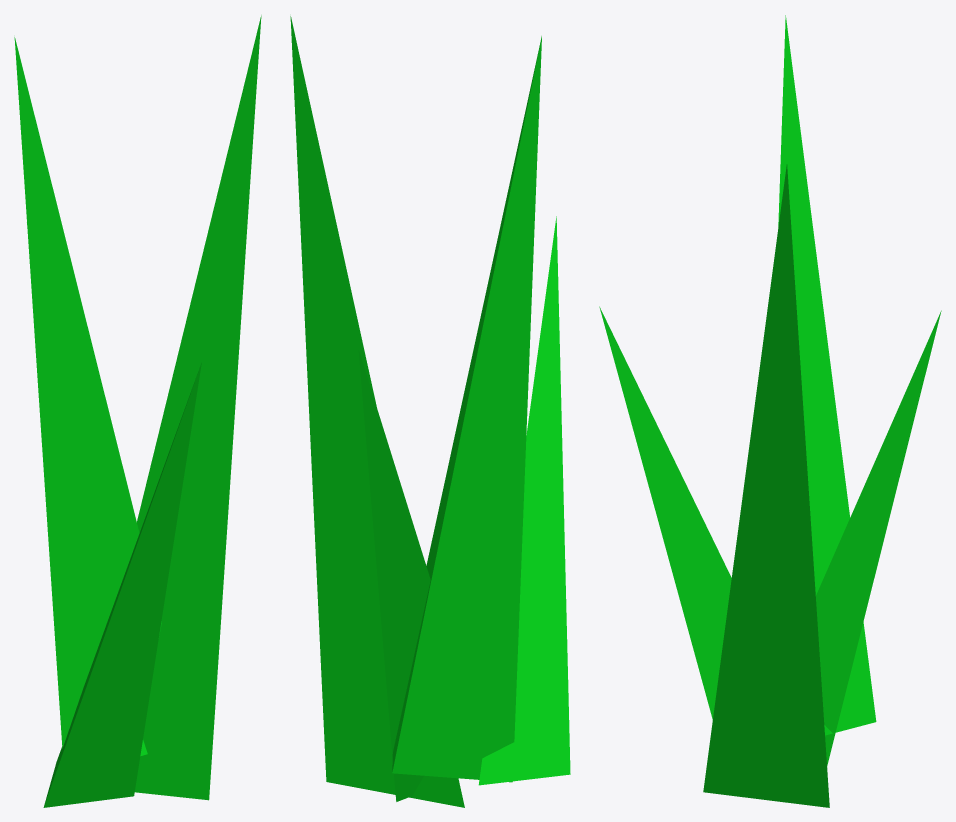
File: hierba 1.fbx
3 views of the same model, side by side, from view 1: azimuth 30°, elevation 25°; view 2: azimuth 150°, elevation 25°; view 3: azimuth 270°, elevation 25° (orthographic). The views are drawn at different scales.
Visible parts, largest first — view 1: Cone; view 2: Cone; view 3: Cone.
Boxes of the visible parts, x1,y1,x2,y2 form: Cone: (14, 15, 261, 807); Cone: (290, 16, 570, 807); Cone: (599, 15, 941, 807).
Bounding box in the file's own units: 49.47 × 148 × 64.13.
